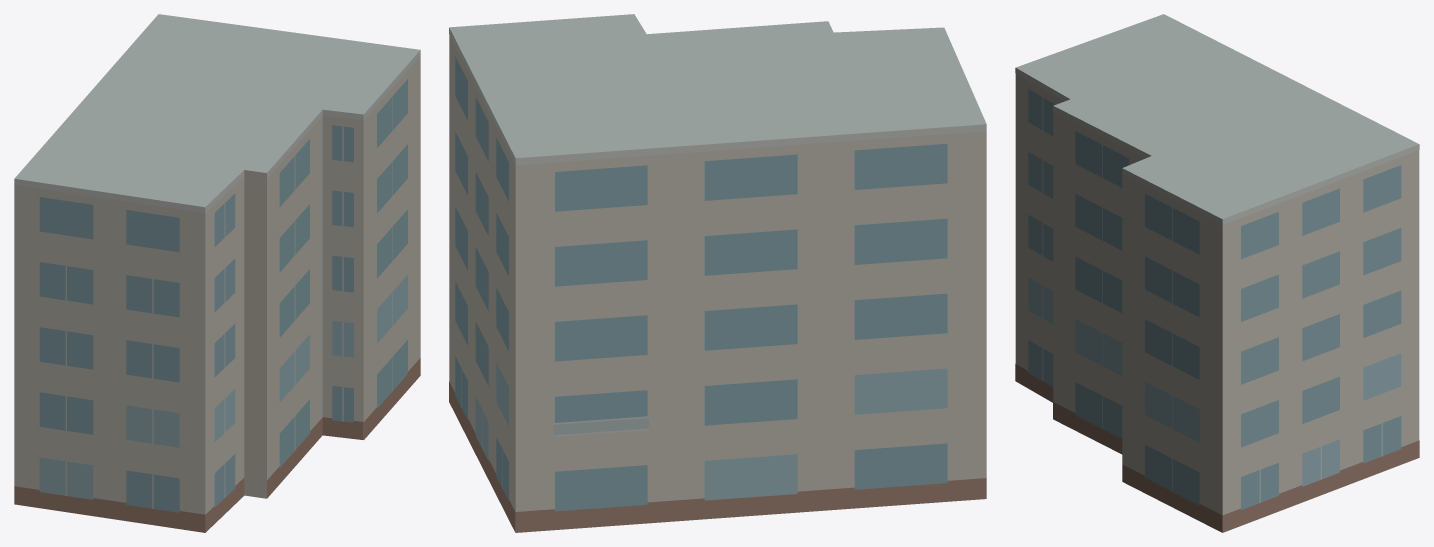
File: survey-upis-32833264.glb
3 renders of one model, left to right at view 1: azimuth 30°, elevation 25°; view 2: azimuth 150°, elevation 25°; view 3: azimuth 270°, elevation 25°, orthographic. The views are drawn at different scales.
Visible parts, largest first — view 1: survey-upis-32833264.tmp; view 2: survey-upis-32833264.tmp; view 3: survey-upis-32833264.tmp.
Boxes of the visible parts, <box> form: survey-upis-32833264.tmp: <box>14,14,420,532</box>; survey-upis-32833264.tmp: <box>449,14,986,532</box>; survey-upis-32833264.tmp: <box>1015,14,1419,532</box>.
Size of the model in its own units: 18.61 by 13.25 by 15.47.
